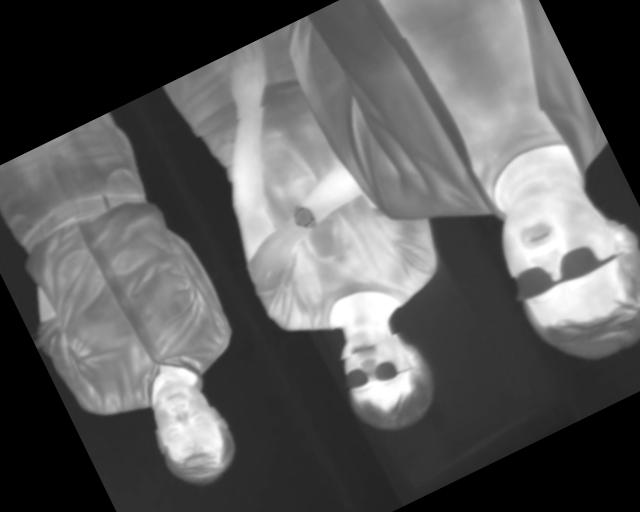face: (473, 156, 640, 386), (321, 307, 450, 448), (134, 367, 248, 496)
